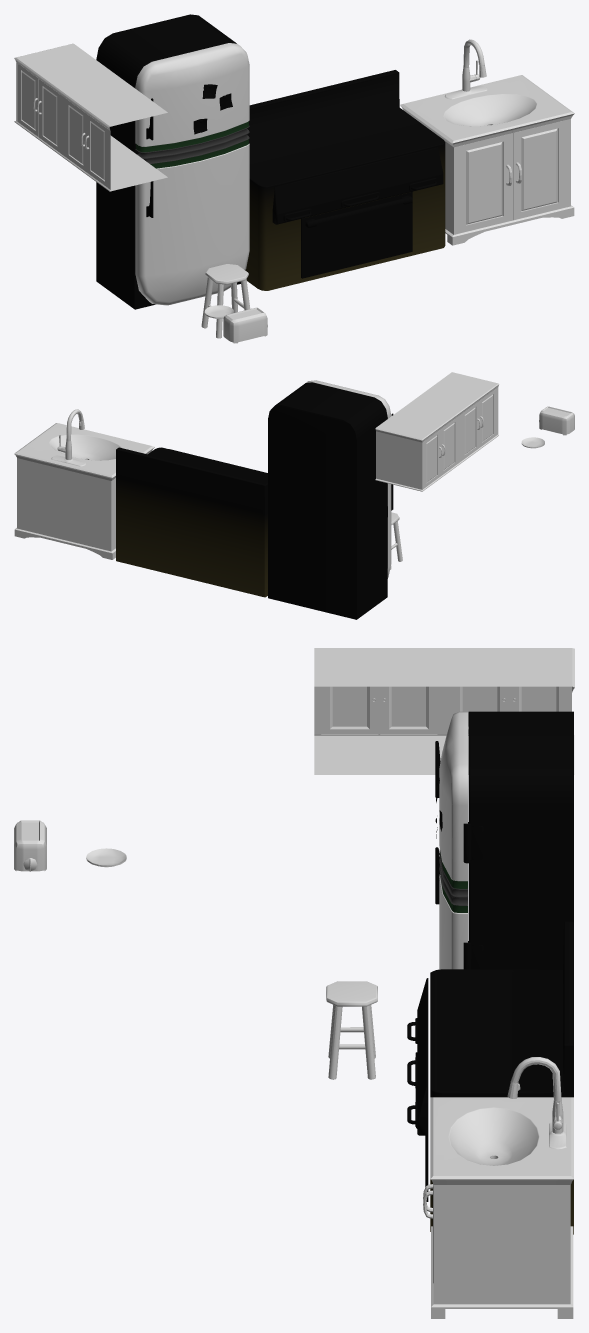
Rendered from Kitchen_Models.fbx.
3 renders of one model, top to bottom at view 1: azimuth 30°, elevation 25°; view 2: azimuth 150°, elevation 25°; view 3: azimuth 270°, elevation 25°, orthographic. The views are drawn at different scales.
Parts seen in each view (by area): view 1: Fridge, Oven, Sink, CabinetMiddle, CabinetSide, Stool, Toaster, Faucet; view 2: Fridge, Oven, Sink, CabinetSide, CabinetMiddle, Toaster, Faucet, Stool; view 3: Fridge, Sink, Oven, CabinetMiddle, CabinetSide, Stool, Toaster, Faucet.
Part boxes in pixels (x1,y1,x2,y2): Fridge: (96,14,249,309); Oven: (245,70,445,290); Sink: (400,75,574,245); CabinetMiddle: (62,78,167,191); CabinetSide: (14,43,119,156); Stool: (201,264,250,338); Toaster: (223,307,267,343); Faucet: (445,39,487,99); Fridge: (268,380,393,619); Oven: (116,447,267,597); Sink: (14,423,154,559); CabinetSide: (375,400,460,491); CabinetMiddle: (414,372,498,463); Toaster: (539,406,574,435); Faucet: (51,409,85,466); Stool: (390,512,402,569); Fridge: (435,711,573,969); Sink: (423,1097,573,1318); Oven: (407,921,573,1234); CabinetMiddle: (314,648,444,774); CabinetSide: (444,648,574,774); Stool: (326,981,377,1079); Toaster: (14,820,46,871); Faucet: (507,1057,566,1149).
Size of the model in its own units: 5.49 by 2.51 by 3.83.
